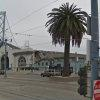Tree: (43, 2, 96, 63)
